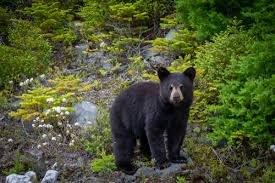bear: (110, 67, 197, 171)
